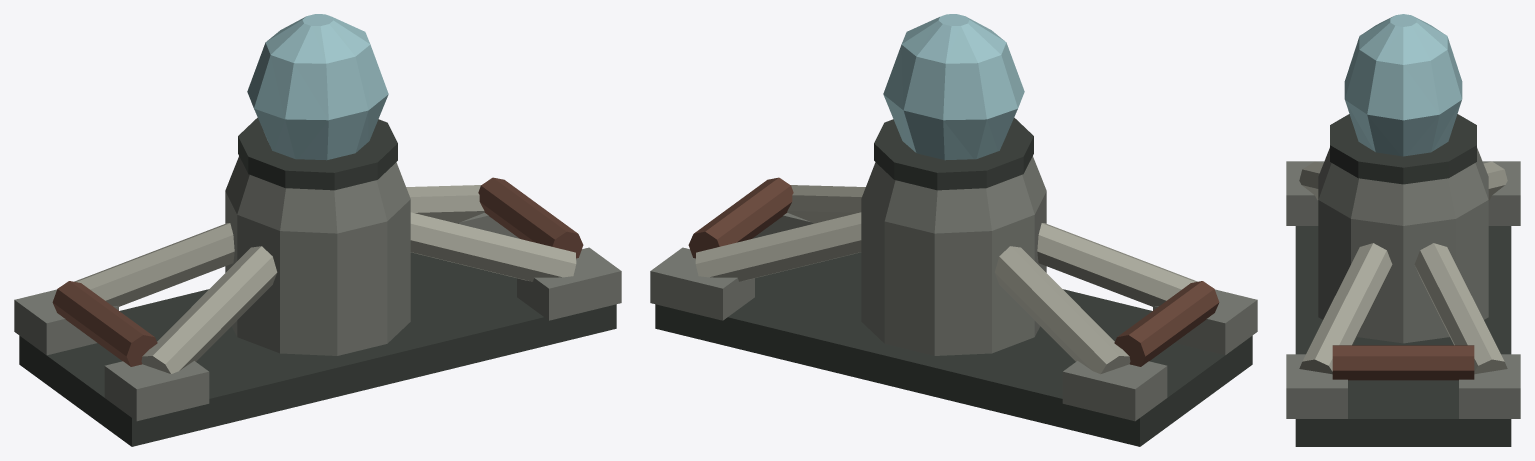
Rendered from sleep_suppressor.obj.
The picture shows the model from 3 angles, left to right: view 1: azimuth 30°, elevation 25°; view 2: azimuth 150°, elevation 25°; view 3: azimuth 270°, elevation 25°; orthographic projection. The views are drawn at different scales.
Parts seen in each view (by area): view 1: sleep_suppressor; view 2: sleep_suppressor; view 3: sleep_suppressor.
Boxes of the visible parts, x1=… form: sleep_suppressor: x1=14, y1=14, x2=621, y2=446; sleep_suppressor: x1=650, y1=14, x2=1257, y2=446; sleep_suppressor: x1=1286, y1=14, x2=1520, y2=446.
Size of the model in its own units: 1.74 by 1.12 by 0.76.
